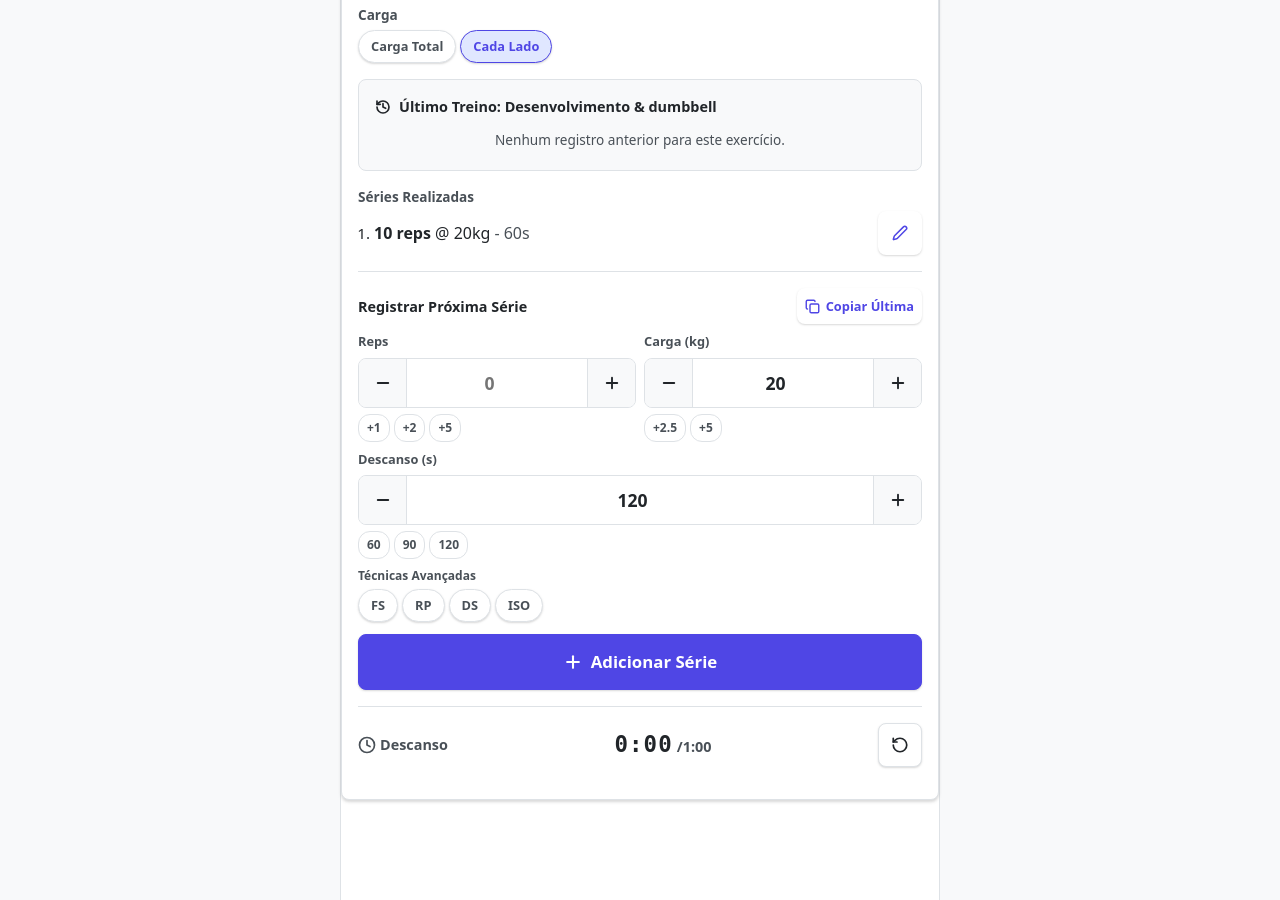
ExerciseScreen — registro de séries › não adiciona série e mostra erro quando as repetições são inválidas
This screenshot has width=1280, height=900.
(page scrolled)
Click the button "Adicionar Série" at {"x": 640, "y": 662}, box [358,634,922,690]
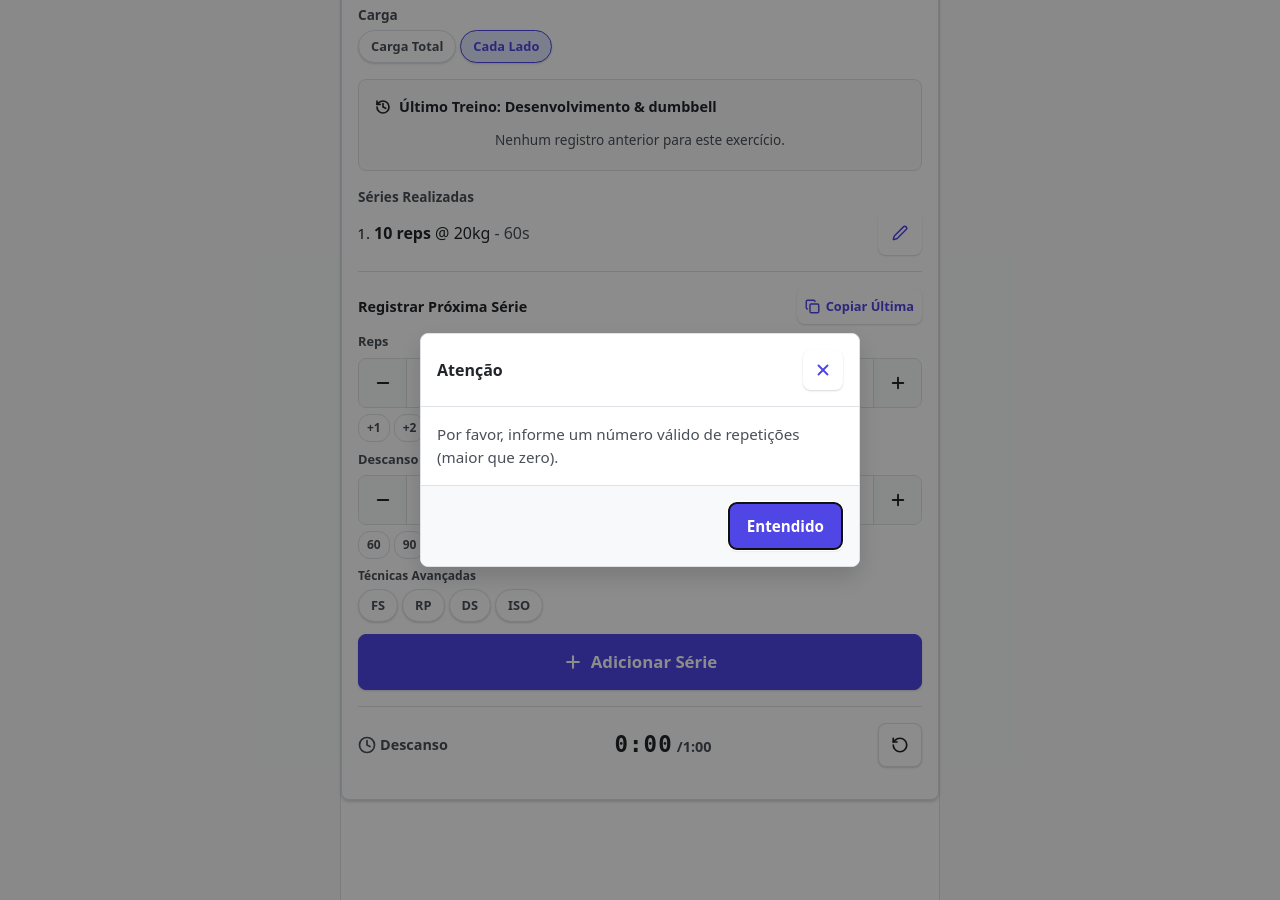
Result: the text "Por favor, informe um número válido de repetições (maior que zero)." is shown at [437,423,843,469]
